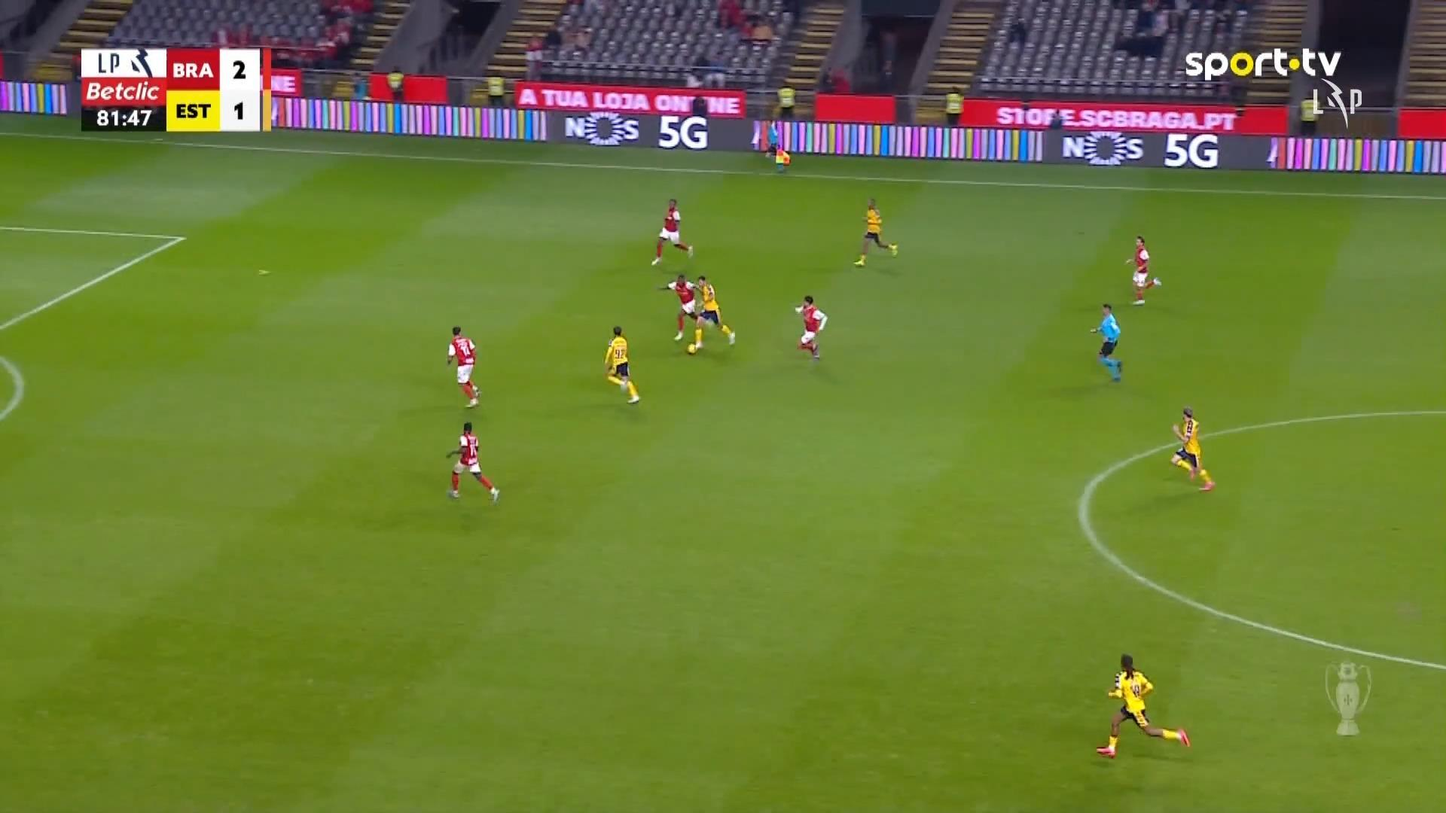ball: (686, 343, 696, 355)
player: (1095, 653, 1191, 758), (444, 421, 499, 504), (1170, 406, 1215, 491), (688, 275, 737, 352), (853, 196, 898, 266), (650, 197, 694, 266), (445, 324, 481, 408), (602, 324, 640, 403), (658, 273, 702, 341), (1124, 234, 1161, 305), (794, 294, 827, 360)
referee: (1089, 302, 1123, 382), (764, 119, 792, 173)
